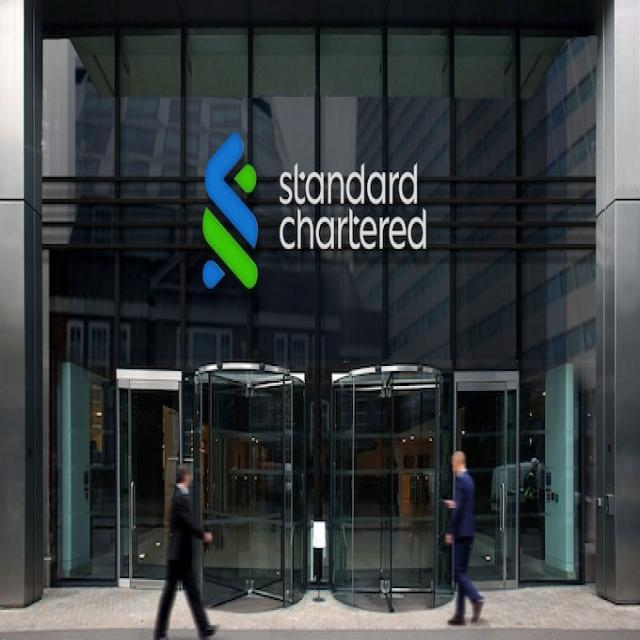Standard Chartered: (200, 126, 428, 291)
